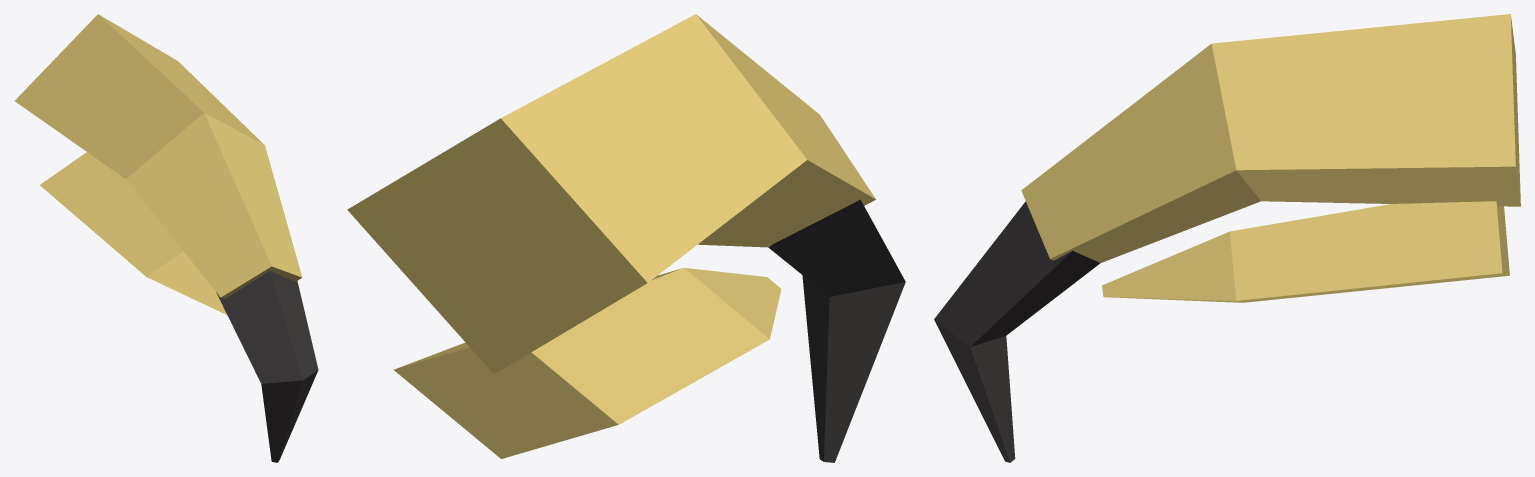
File: beak.glb
The picture shows the model from 3 angles, left to right: view 1: azimuth 30°, elevation 25°; view 2: azimuth 150°, elevation 25°; view 3: azimuth 270°, elevation 25°; orthographic projection. The views are drawn at different scales.
Parts seen in each view (by area): view 1: beak; view 2: beak; view 3: beak.
Boxes of the visible parts, x1,y1,x2,y2 form: beak: [15, 14, 318, 462]; beak: [347, 14, 905, 462]; beak: [934, 14, 1520, 462].
Size of the model in its own units: 0.04 by 0.0742 by 0.0882.
